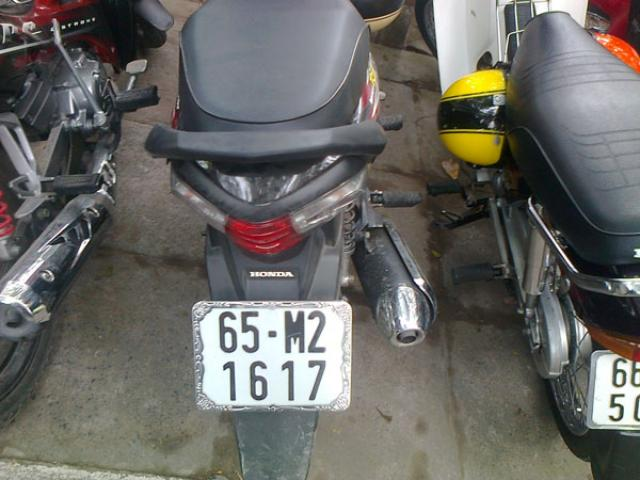plate: (184, 292, 360, 417)
